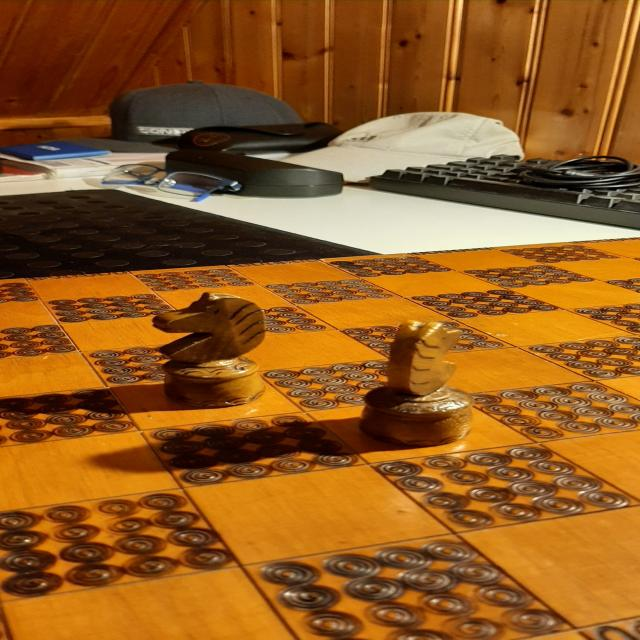black-knight: (359, 320, 474, 448), (151, 292, 268, 407)
